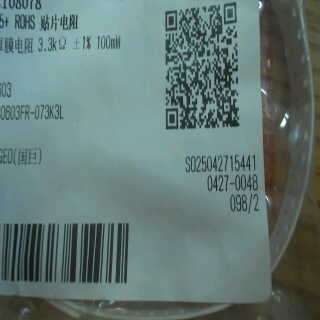3.3kO: (32, 32, 69, 59)
